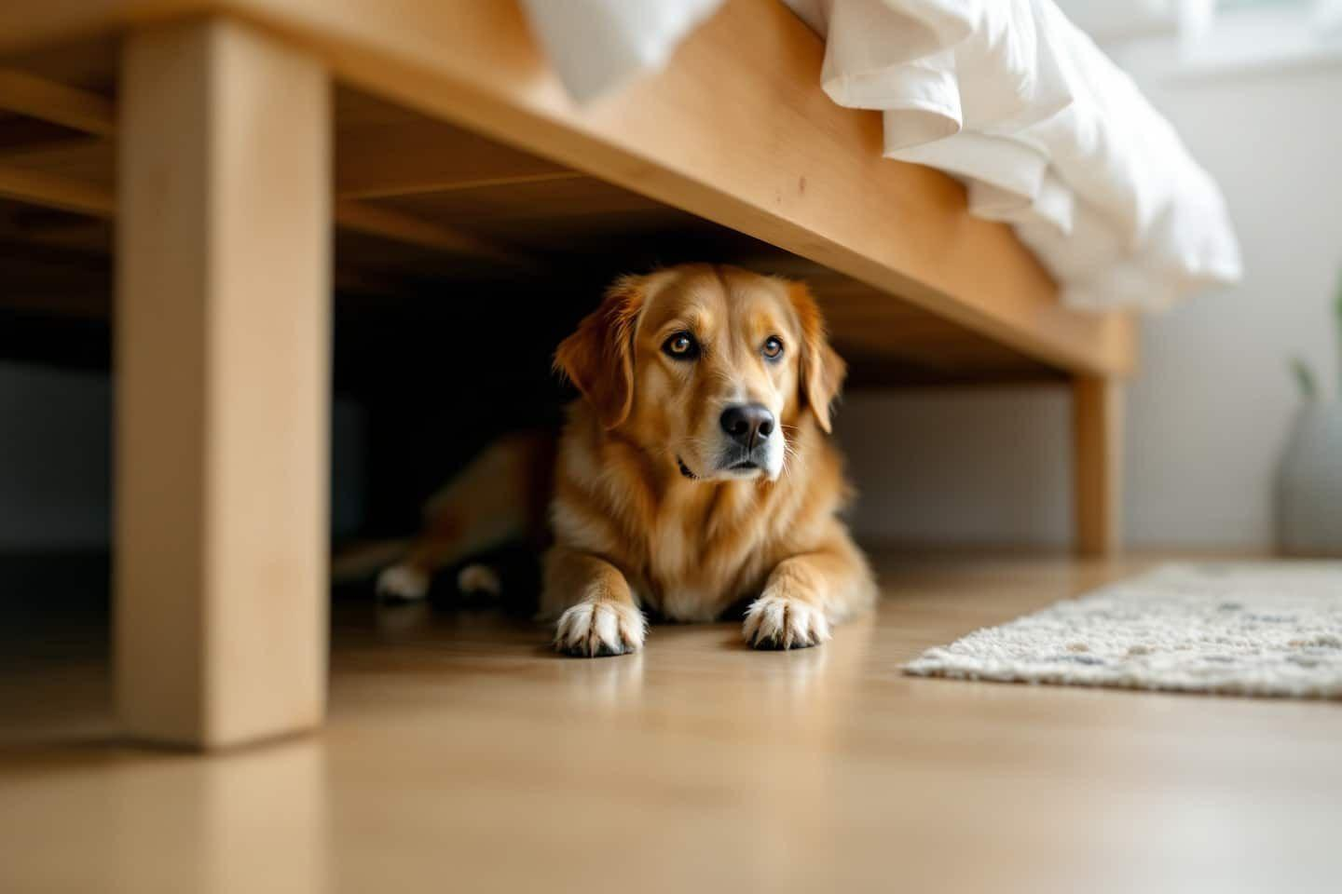adult_dog: (330, 257, 886, 662)
